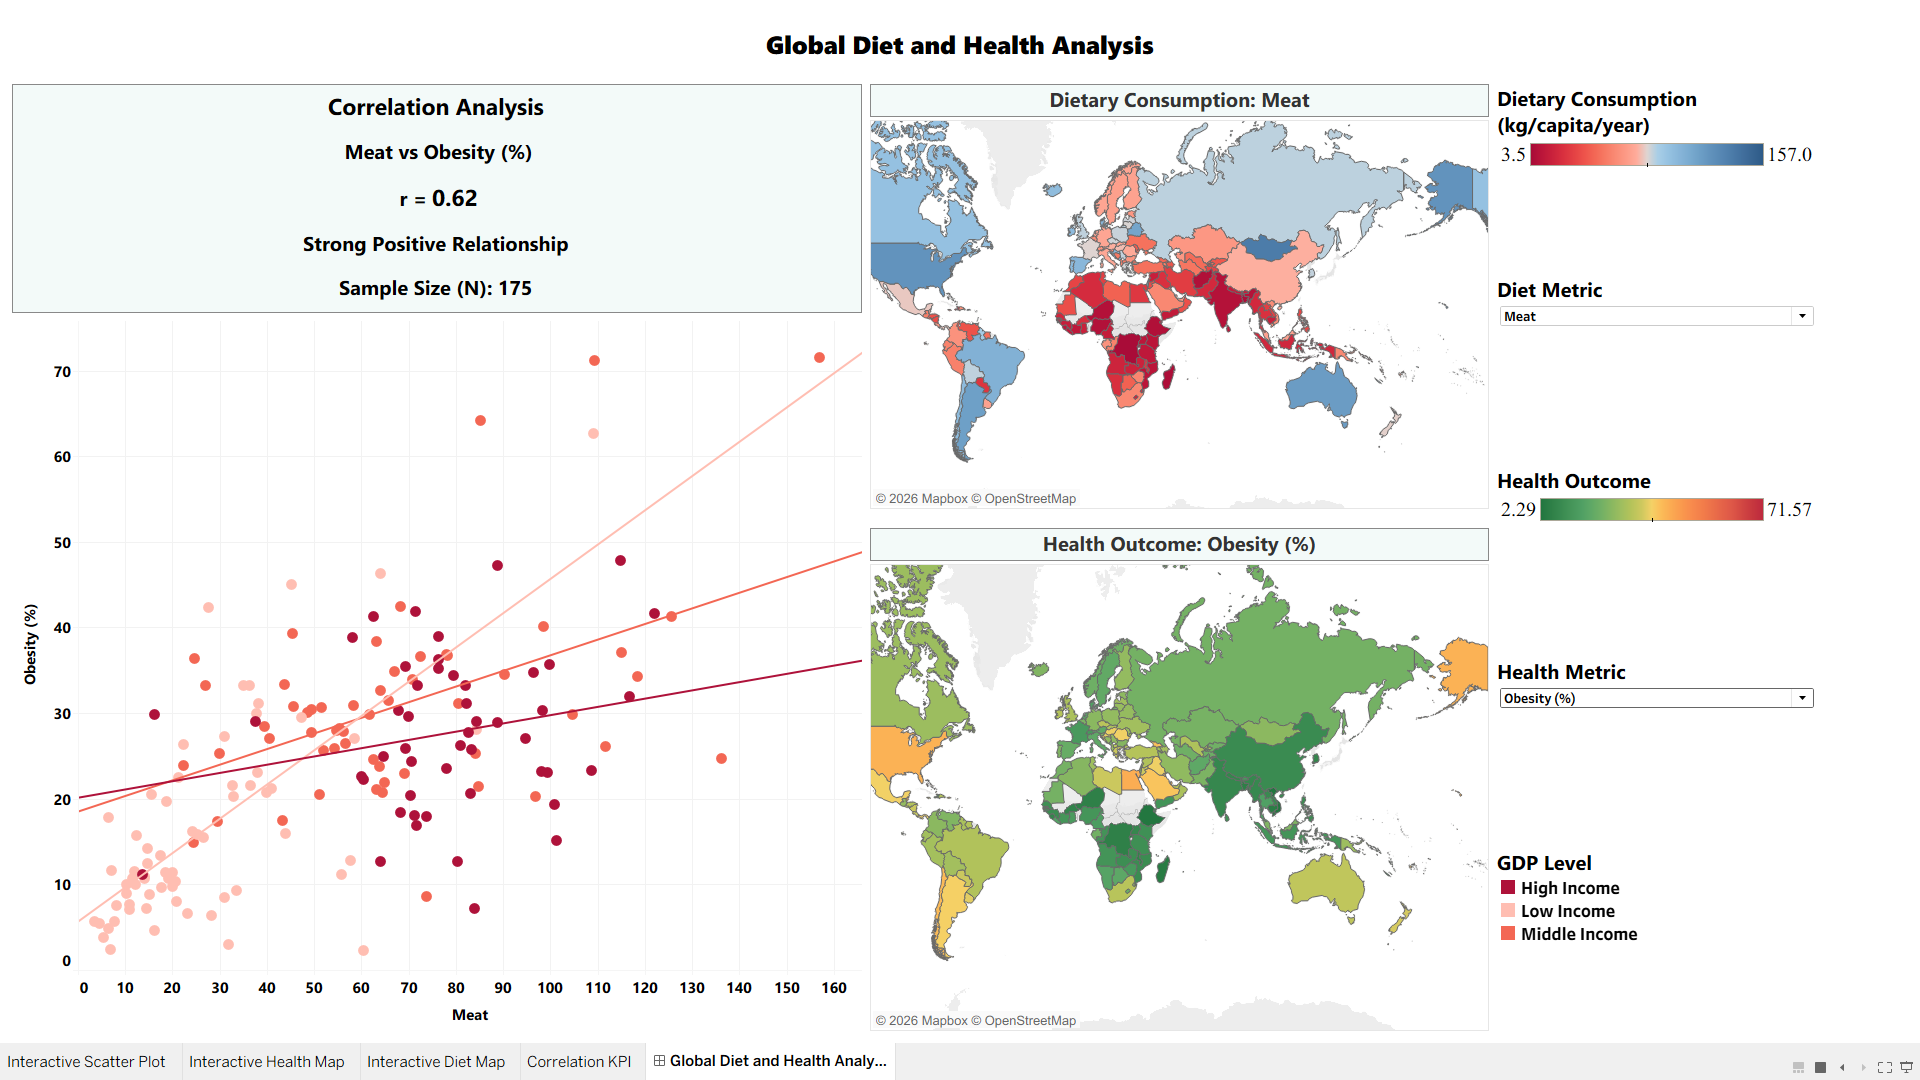

The dashboard page shown, as its layout file describes it:
{"tool":"tableau","page":{"name":"Global Diet and Health Analysis Dashboard","canvas":[1000,1000],"units":"permille","ordinal":0},"visuals":[{"type":"text","box":[4.8,9.4,990.3,69.1]},{"type":"worksheet","title":"Correlation KPI","mark":"Text","box":[4.8,78.5,446,278.5]},{"type":"worksheet","title":"Interactive Diet Map","mark":"Automatic","box":[450.9,78.5,346.4,423.6]},{"type":"legend","title":"Interactive Diet Map","param":"[federated.15vkbdv0schxjz125x6bj0s2ewvw].[sum:Calculation_1202064610971650:qk]","box":[797.2,78.7,198,183.3]},{"type":"parameter","param":"[Parameters].[Parameter 1202064609026048]","box":[797.2,262,198,182.1]},{"type":"worksheet","title":"Interactive Scatter Plot","mark":"Circle","rows":["Calculation_1202064612687875"],"cols":["Calculation_1202064610971650"],"box":[4.8,357,446,633.6]},{"type":"legend","title":"Interactive Health Map","param":"[federated.15vkbdv0schxjz125x6bj0s2ewvw].[sum:Calculation_1202064612687875:qk]","box":[797.2,444.2,198,182.1]},{"type":"worksheet","title":"Interactive Health Map","mark":"Multipolygon","box":[450.9,502.2,346.4,488.4]},{"type":"parameter","param":"[Parameters].[Parameter 1202064610185217]","box":[797.2,626.3,198,182.1]},{"type":"legend","title":"Interactive Scatter Plot","param":"[federated.15vkbdv0schxjz125x6bj0s2ewvw].[none:Calculation_1202064613281796:nk]","box":[797.2,808.5,198,182.1]}]}

Visuals, with their boxes on the dashboard's canvas, which has no fixed pixel size, in thousandths of its width and height (x1, y1, x2, y2). These are canvas units, not pixel positions in the 1920x1080 screenshot, which may show the page scaled, cropped or inside an application window:
text: [x1=5, y1=9, x2=995, y2=78]
"Correlation KPI" worksheet (Text marks): [x1=5, y1=78, x2=451, y2=357]
"Interactive Diet Map" worksheet: [x1=451, y1=78, x2=797, y2=502]
"Interactive Diet Map" legend: [x1=797, y1=79, x2=995, y2=262]
parameter: [x1=797, y1=262, x2=995, y2=444]
"Interactive Scatter Plot" worksheet (Circle marks): [x1=5, y1=357, x2=451, y2=991]
"Interactive Health Map" legend: [x1=797, y1=444, x2=995, y2=626]
"Interactive Health Map" worksheet (Multipolygon marks): [x1=451, y1=502, x2=797, y2=991]
parameter: [x1=797, y1=626, x2=995, y2=808]
"Interactive Scatter Plot" legend: [x1=797, y1=808, x2=995, y2=991]
